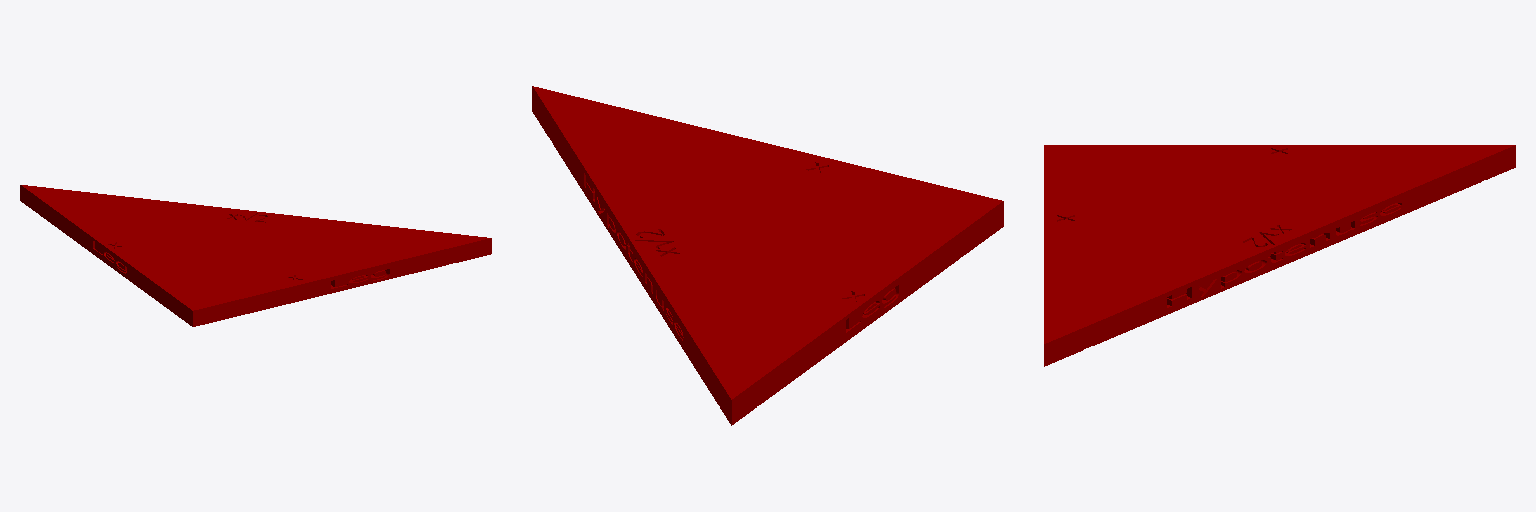
URDF robot description (triangle):
<?xml version="1.0"?>
<!-- created with Phobos 1.0.1 "Capricious Choutengan" -->
  <robot name="triangle">

    <link name="Untitled">
      <inertial>
        <origin xyz="0 0 0" rpy="0 0 0"/>
        <mass value="0.001"/>
        <inertia ixx="0.001" ixy="0" ixz="0" iyy="0.001" iyz="0" izz="0.001"/>
      </inertial>
      <visual name="Triangle2">
        <origin xyz="0 0 0" rpy="0 0 0"/>
        <geometry>
          <mesh filename="Triangle2.stl" scale="0.01496 0.01496 0.00394"/>
        </geometry>
        <material name="Material.001"/>
      </visual>
    </link>

    <material name="Material.001">
      <color rgba="0.64 0 0 1.0"/>
    </material>

  </robot>

--- Facts derived from the render (not from the file) ---
The picture shows the robot from 3 angles, left to right: view 1: azimuth 30°, elevation 25°; view 2: azimuth 150°, elevation 25°; view 3: azimuth 270°, elevation 25°; orthographic projection.
Model triangle with 1 links and 0 joints (none), rooted at Untitled, posed all joints at 0.
Links seen in each view (by area): view 1: Untitled; view 2: Untitled; view 3: Untitled.
Boxes of the visible links, bbox=[...] form: Untitled: bbox=[20, 185, 491, 326]; Untitled: bbox=[532, 86, 1003, 425]; Untitled: bbox=[1044, 145, 1515, 366].
Bounding box of the posed robot: 0.19 × 0.19 × 0.01 m (x, y, z).
Meshes: 1 distinct files referenced, 1 mesh visuals loaded (1 binary STL).